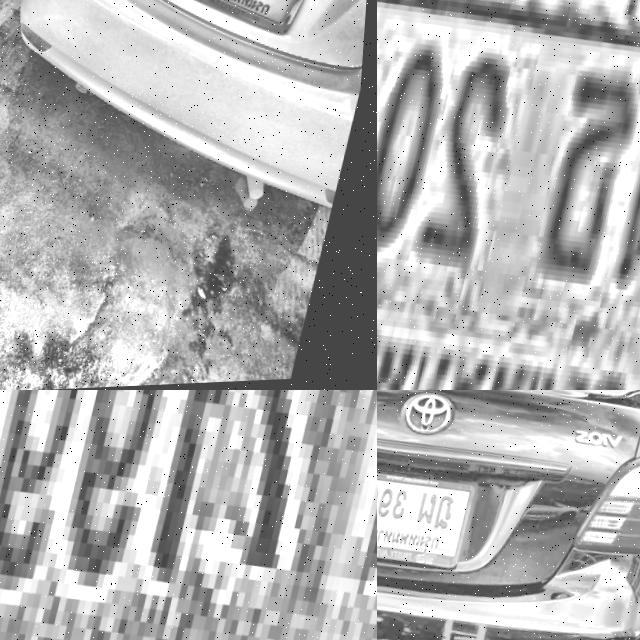license-plate: (377, 0, 640, 390), (0, 390, 377, 640), (377, 462, 484, 581), (162, 0, 327, 48)
